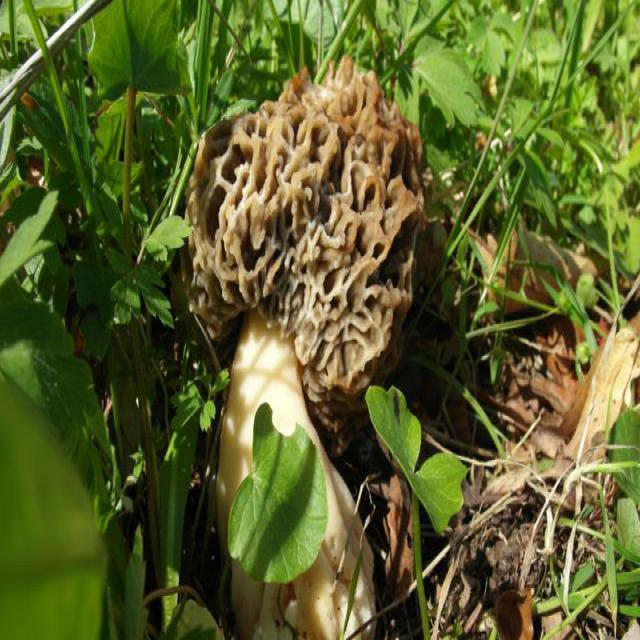Morchella esculenta: (186, 56, 430, 640)
